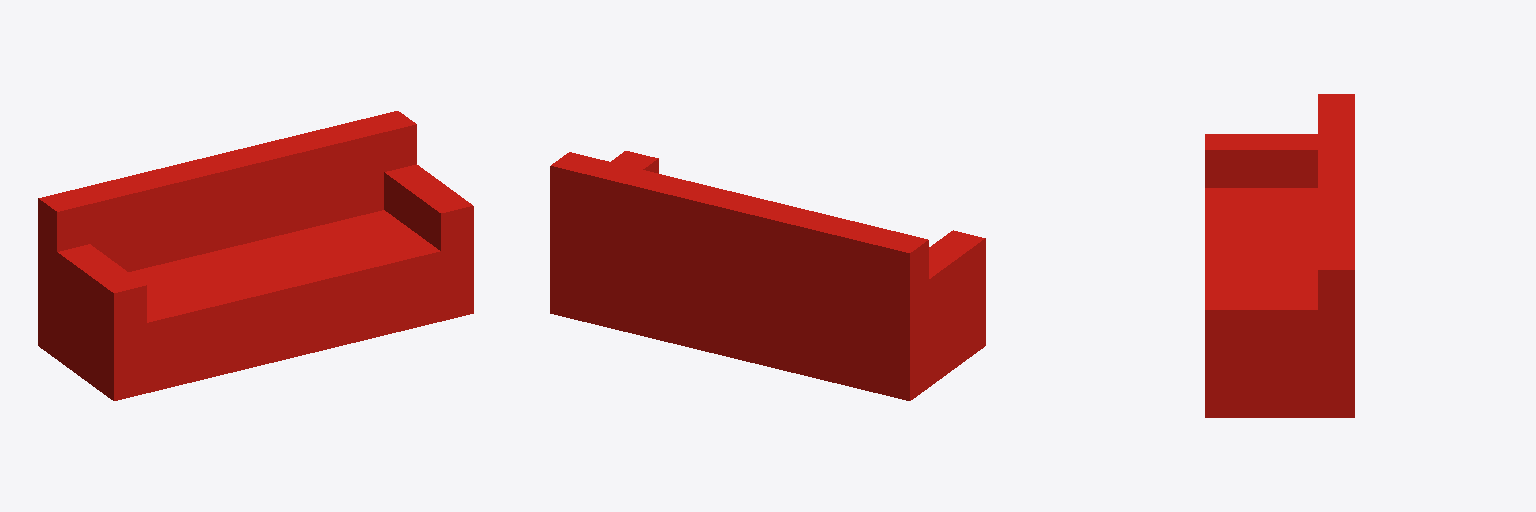
File: Couch.obj
3 views of the same model, side by side, from view 1: azimuth 30°, elevation 25°; view 2: azimuth 150°, elevation 25°; view 3: azimuth 270°, elevation 25° (orthographic).
Visible parts, largest first — view 1: Cube.015_Cube.002; view 2: Cube.015_Cube.002; view 3: Cube.015_Cube.002.
Part boxes in pixels (left/top/right/bottom): Cube.015_Cube.002: left=38, top=111, right=473, bottom=400; Cube.015_Cube.002: left=550, top=151, right=985, bottom=400; Cube.015_Cube.002: left=1205, top=94, right=1354, bottom=417.
Size of the model in its own units: 4.27 by 1.68 by 1.55.